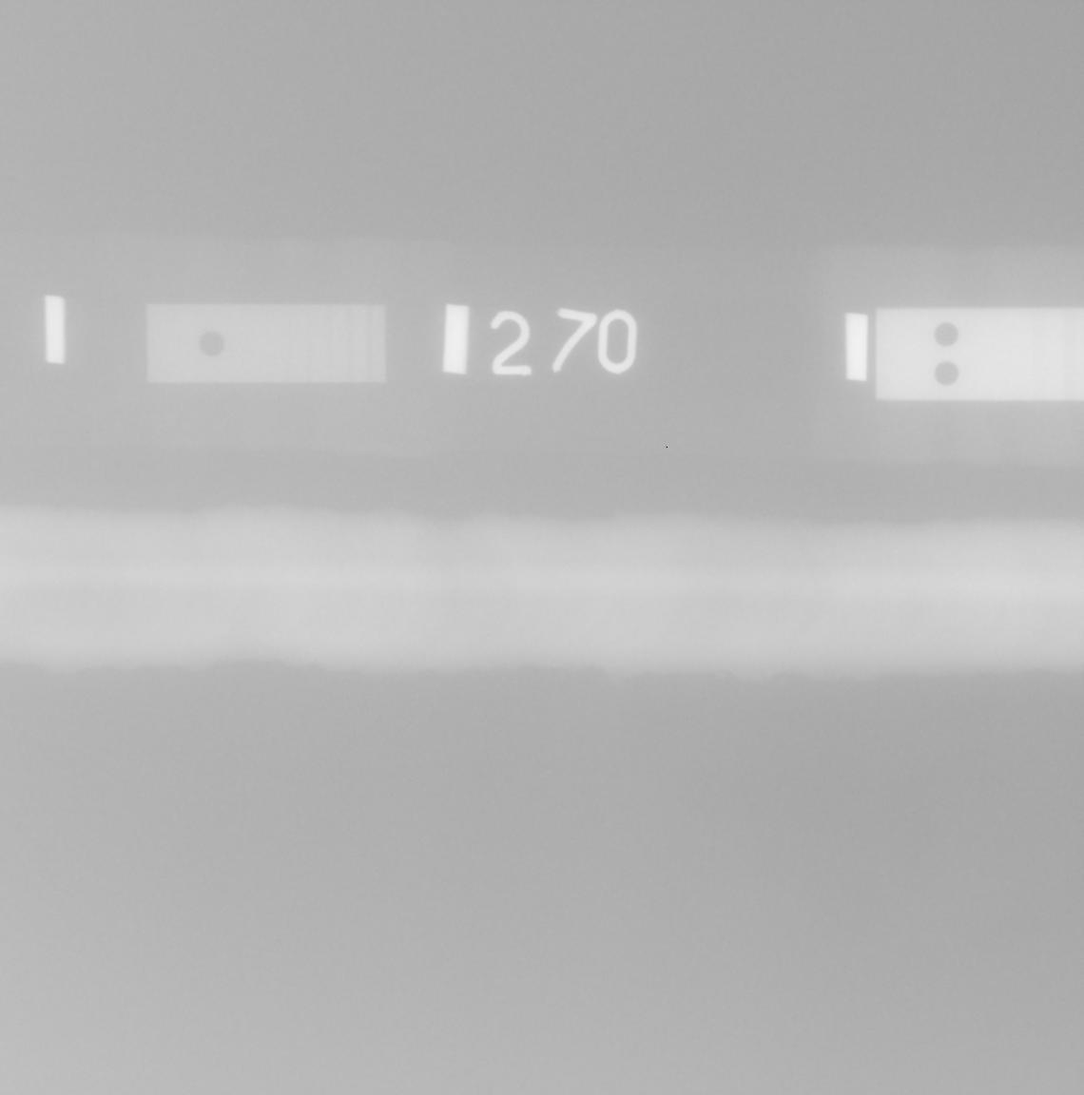Pore/Porosity: (195, 561, 199, 565)
Reference Standard 1: (146, 304, 387, 382)
